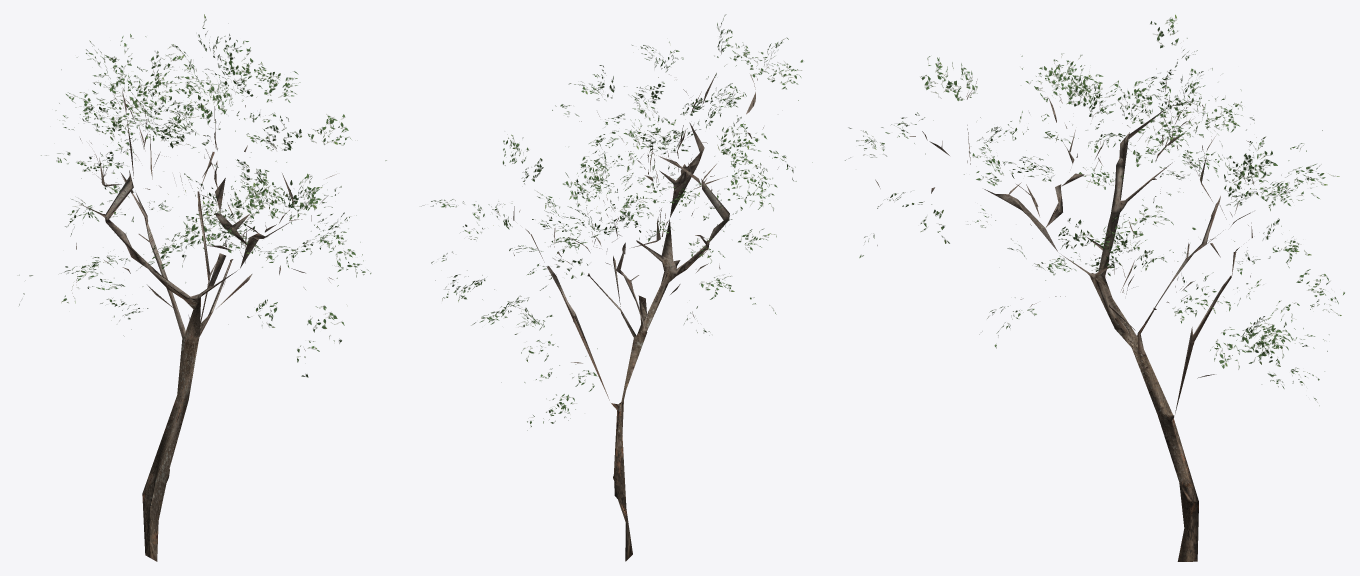
The model's file is tree_small_02_lod2.glb.
3 renders of one model, left to right at view 1: azimuth 30°, elevation 25°; view 2: azimuth 150°, elevation 25°; view 3: azimuth 270°, elevation 25°, orthographic. The views are drawn at different scales.
Visible parts, largest first — view 1: tree_small_02_LOD0; view 2: tree_small_02_LOD0; view 3: tree_small_02_LOD0.
Boxes of the visible parts, bbox=[...] form: tree_small_02_LOD0: bbox=[19, 14, 386, 561]; tree_small_02_LOD0: bbox=[421, 14, 812, 561]; tree_small_02_LOD0: bbox=[845, 14, 1344, 561].
Bounding box in the file's own units: 2.87 × 4.54 × 4.01.
Materials: 3 (3 with a texture image).
